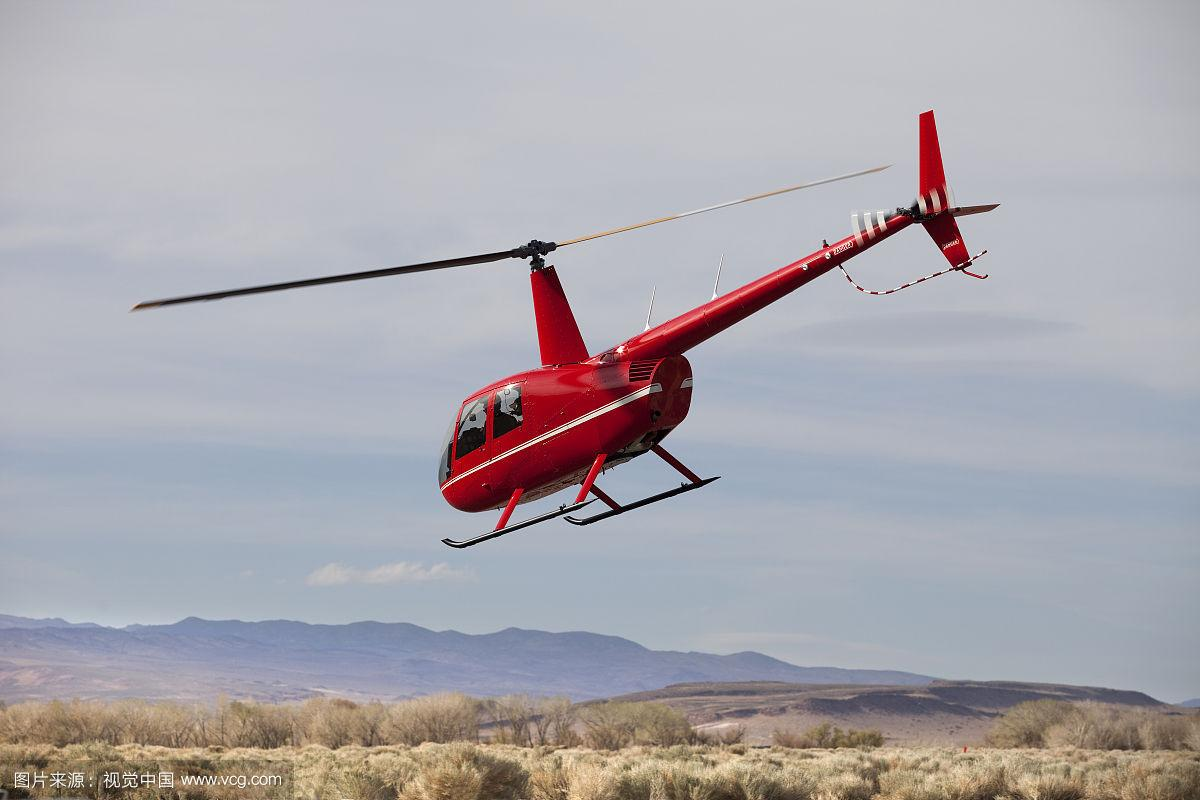airplane: (117, 106, 1005, 561)
